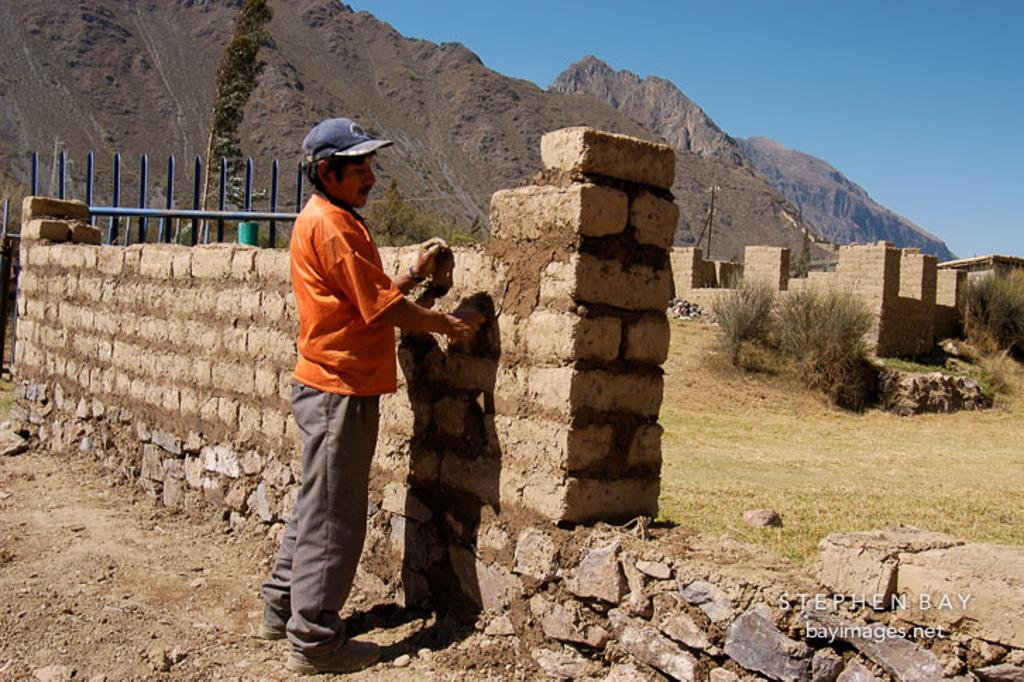face: (328, 152, 375, 207)
